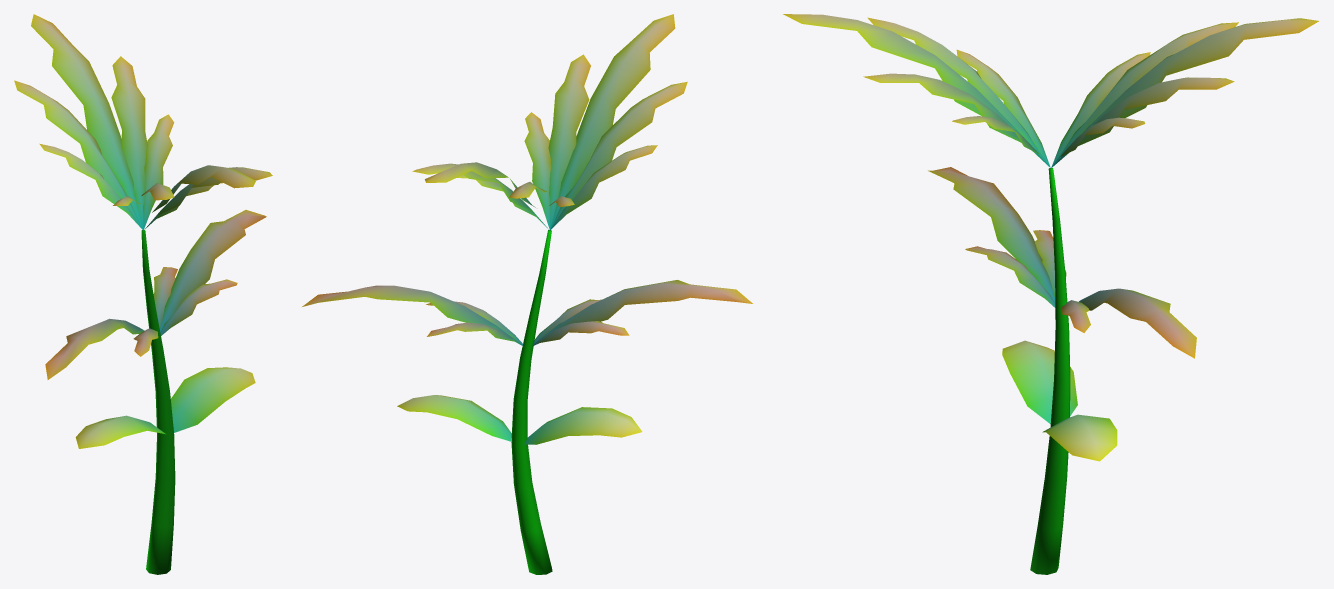
Rendered from plant_seedling.glb.
3 renders of one model, left to right at view 1: azimuth 30°, elevation 25°; view 2: azimuth 150°, elevation 25°; view 3: azimuth 270°, elevation 25°, orthographic. The views are drawn at different scales.
Visible parts, largest first — view 1: Leaves, Stem; view 2: Leaves, Stem; view 3: Leaves, Stem.
Part boxes in pixels (x1,y1,x2,y2): Leaves: (14, 14, 272, 448); Stem: (141, 230, 175, 574); Leaves: (302, 14, 752, 444); Stem: (511, 230, 552, 574); Leaves: (783, 14, 1318, 461); Stem: (1030, 168, 1070, 574).
Size of the model in its own units: 0.1845 by 0.25 by 0.2236.
